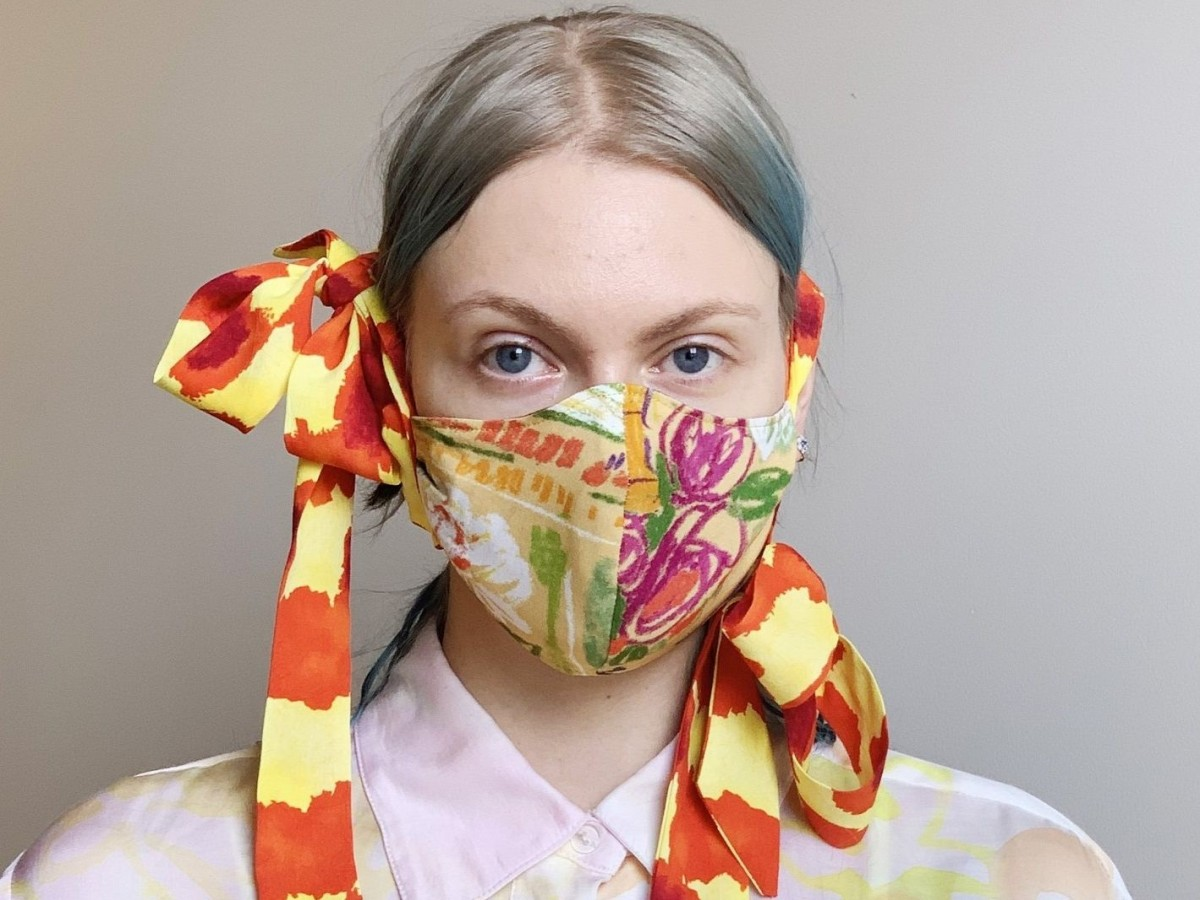with_mask: (364, 78, 873, 676)
